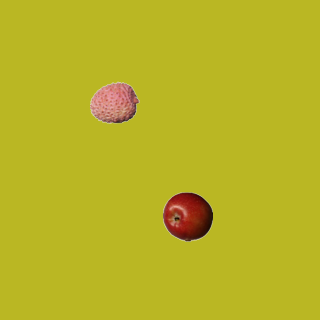Apple Braeburn: (162, 191, 212, 241)
Lychee: (89, 77, 139, 127)
